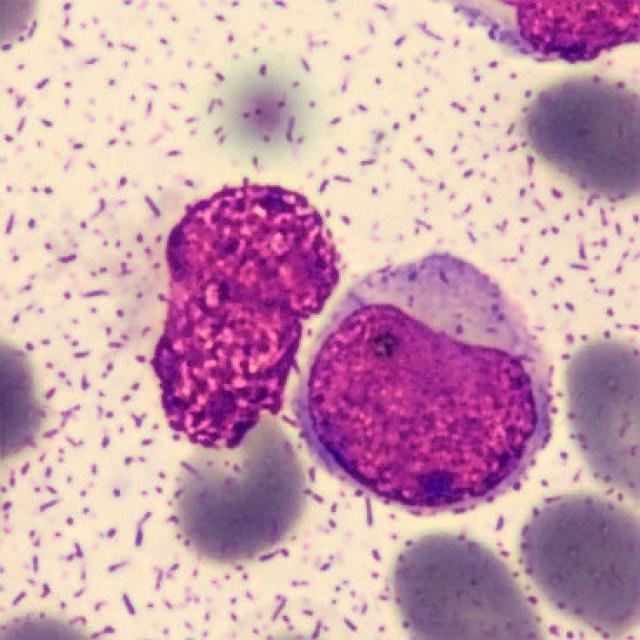Mieloblasto: (285, 256, 550, 515)
Restos celulares: (150, 183, 344, 450)
